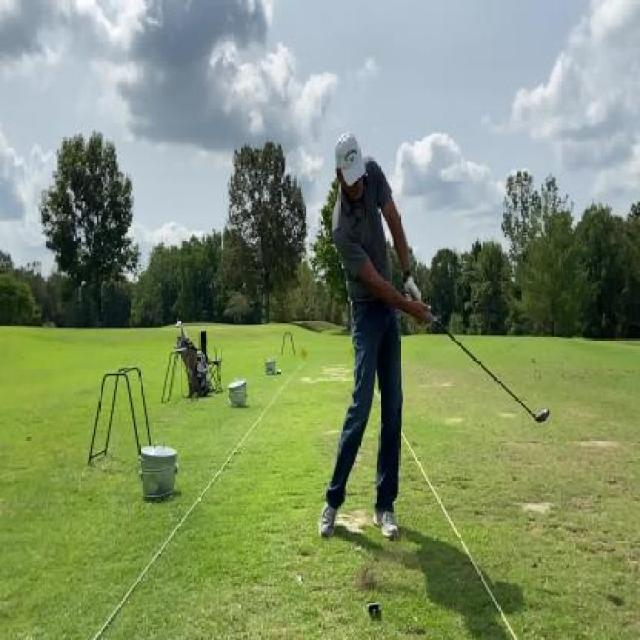club head: (528, 407, 550, 424)
